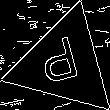P_S: (39, 34, 88, 93)
